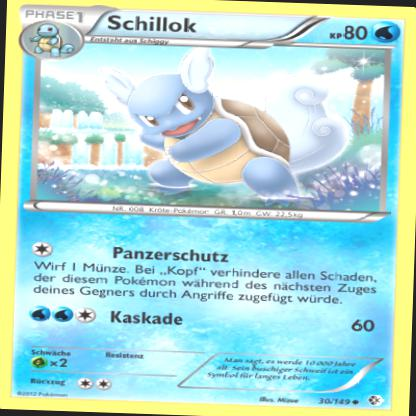Wartortle: (94, 45, 355, 201)
